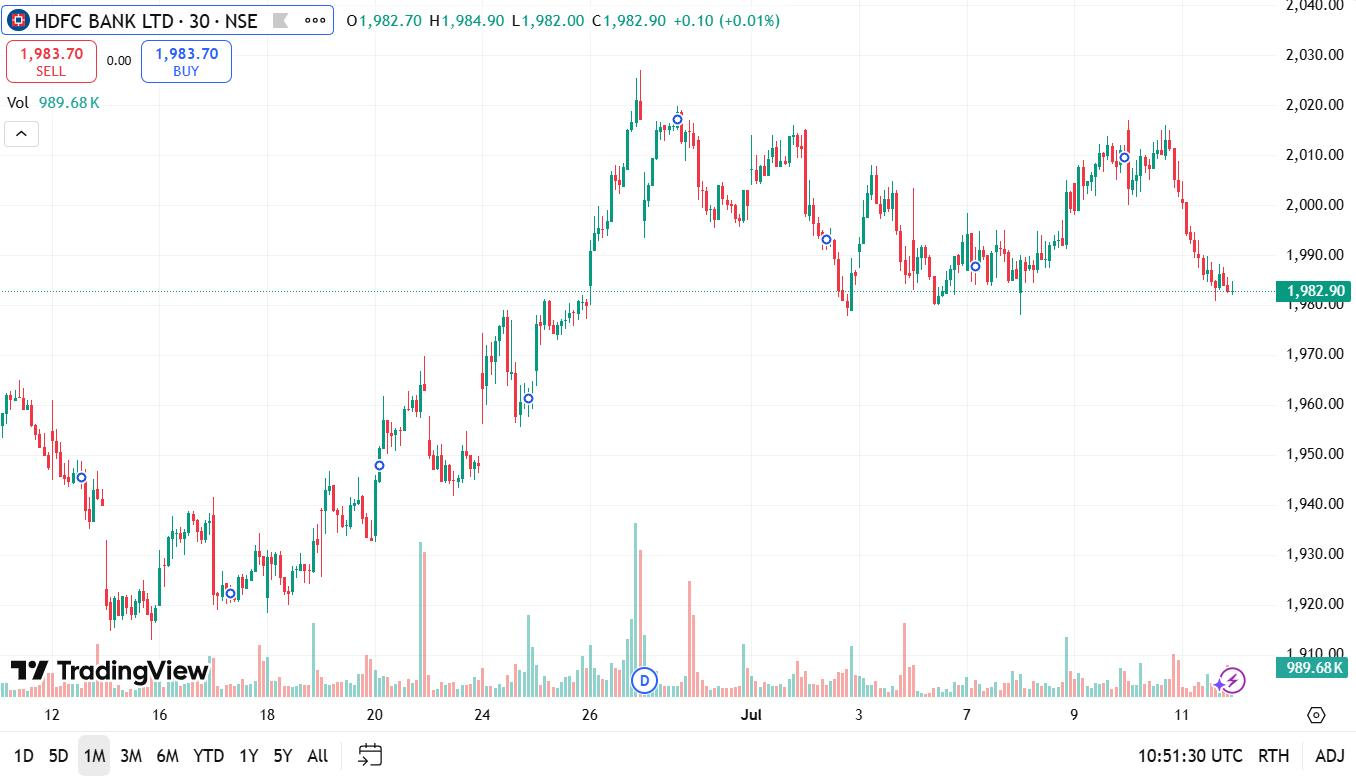Downtrend: (21, 362, 109, 630), (1162, 99, 1236, 337), (794, 95, 854, 346)
Uptrend: (551, 57, 643, 378), (1014, 132, 1119, 333), (143, 493, 214, 633), (355, 395, 396, 565), (288, 449, 328, 614)
